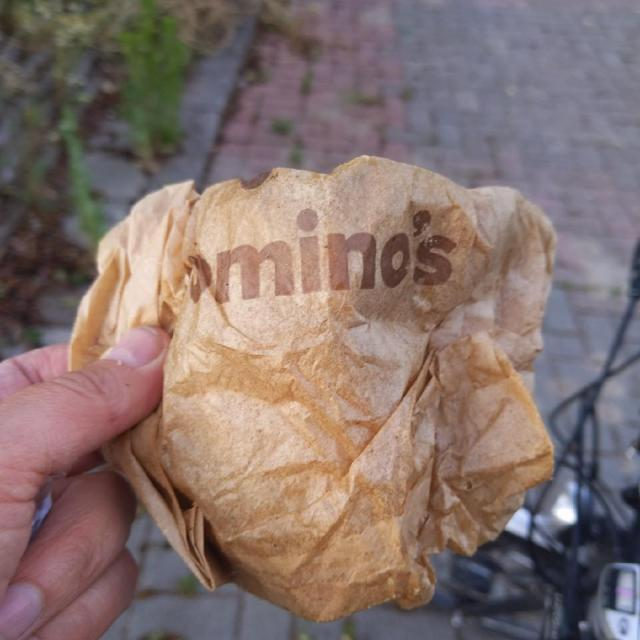Paper: (69, 152, 558, 624)
